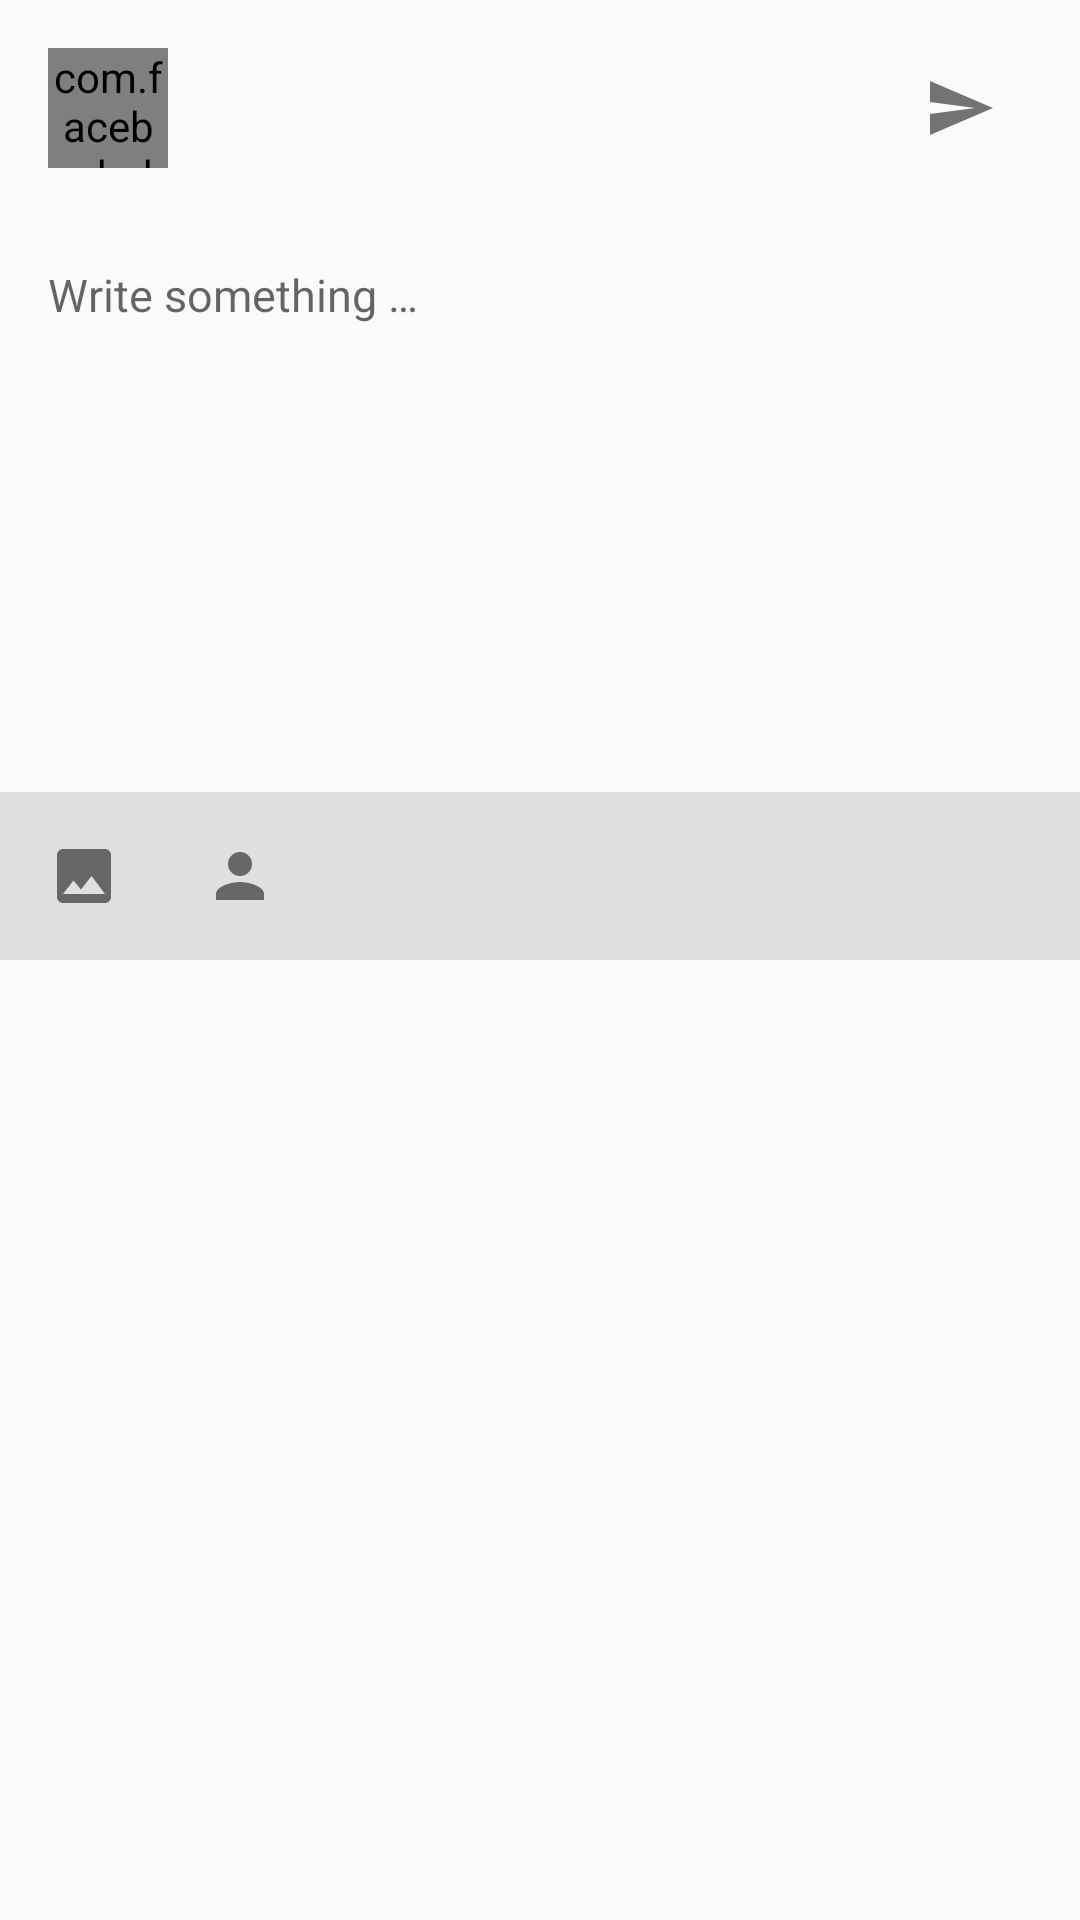

Screen size 1080*1920. Icon name, then its box in pixels as detection(x1, y1, x2, y2):
person 54alpha: detection(216, 852, 264, 900)
Send: detection(930, 81, 993, 135)
